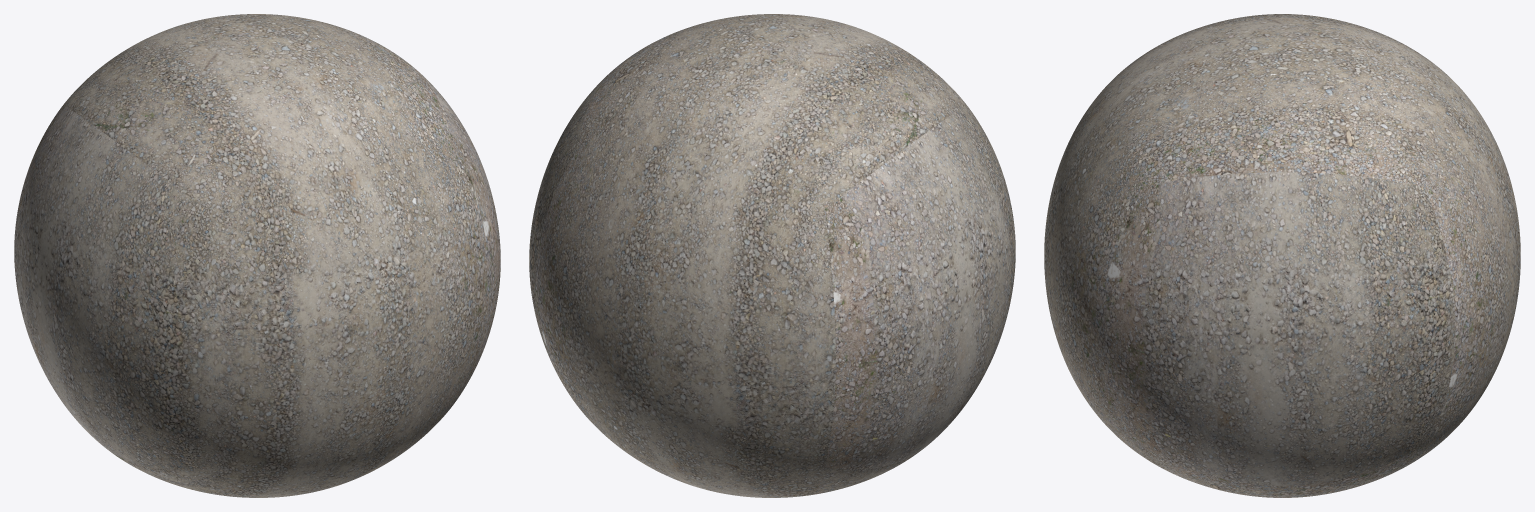
Rendered from gravel_path_texture.glb.
3 views of the same model, side by side, from view 1: azimuth 30°, elevation 25°; view 2: azimuth 150°, elevation 25°; view 3: azimuth 270°, elevation 25° (orthographic).
Visible parts, largest first — view 1: Object_2, Object_3; view 2: Object_2, Object_3; view 3: Object_3, Object_2.
Boxes of the visible parts, x1,y1,x2,y2 form: Object_2: (14, 66, 500, 497); Object_3: (26, 14, 488, 282); Object_2: (536, 66, 1015, 497); Object_3: (529, 14, 1003, 464); Object_3: (1057, 14, 1520, 444); Object_2: (1044, 74, 1520, 497).
Size of the model in its own units: 3.36 by 3.36 by 3.36.
Materials: 1 (1 with a texture image).
